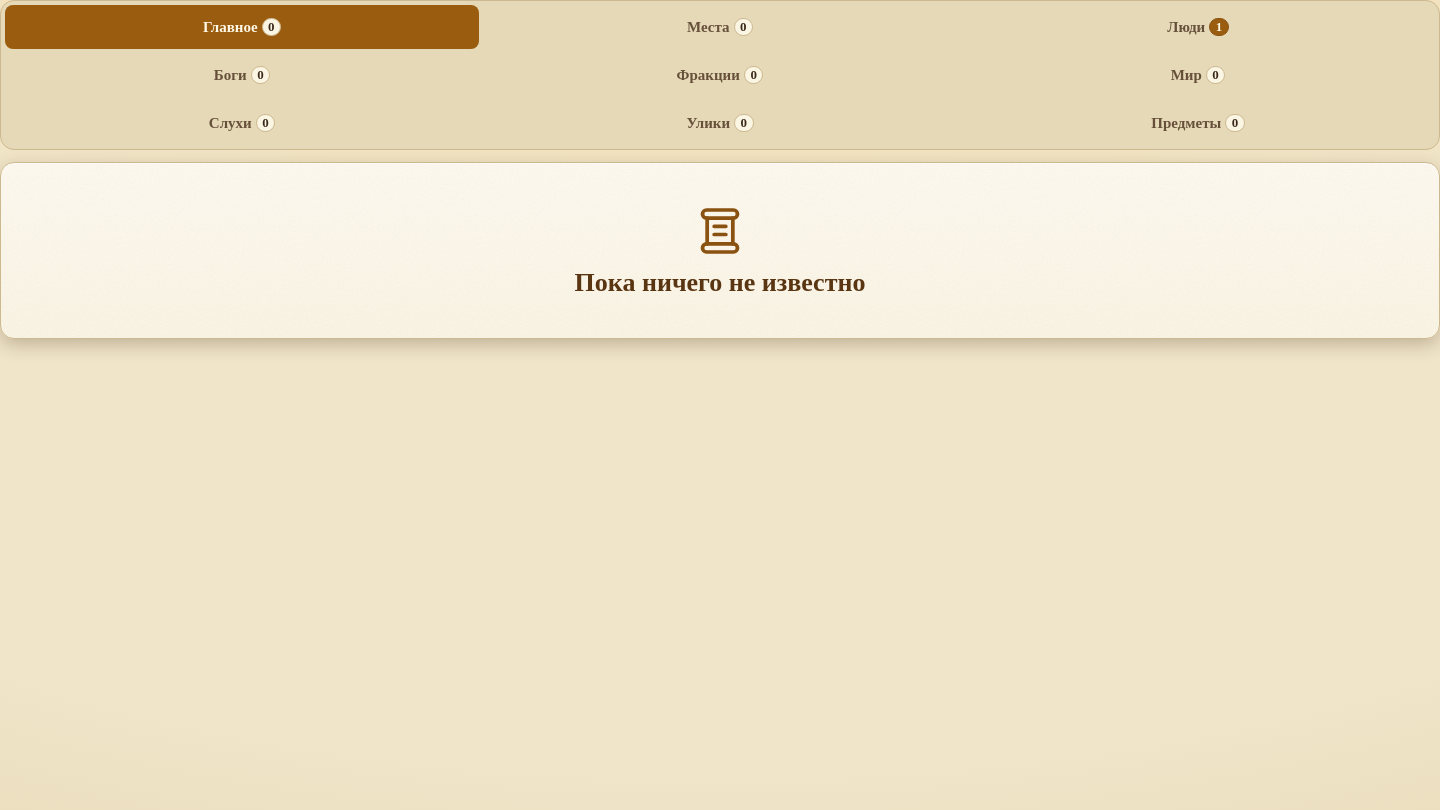
карточка записи › название, абзацы текста и раунд, когда узнали
The image size is (1440, 810).
Click the tab "Люди 1" at (1198, 27), box [961,5,1435,49]
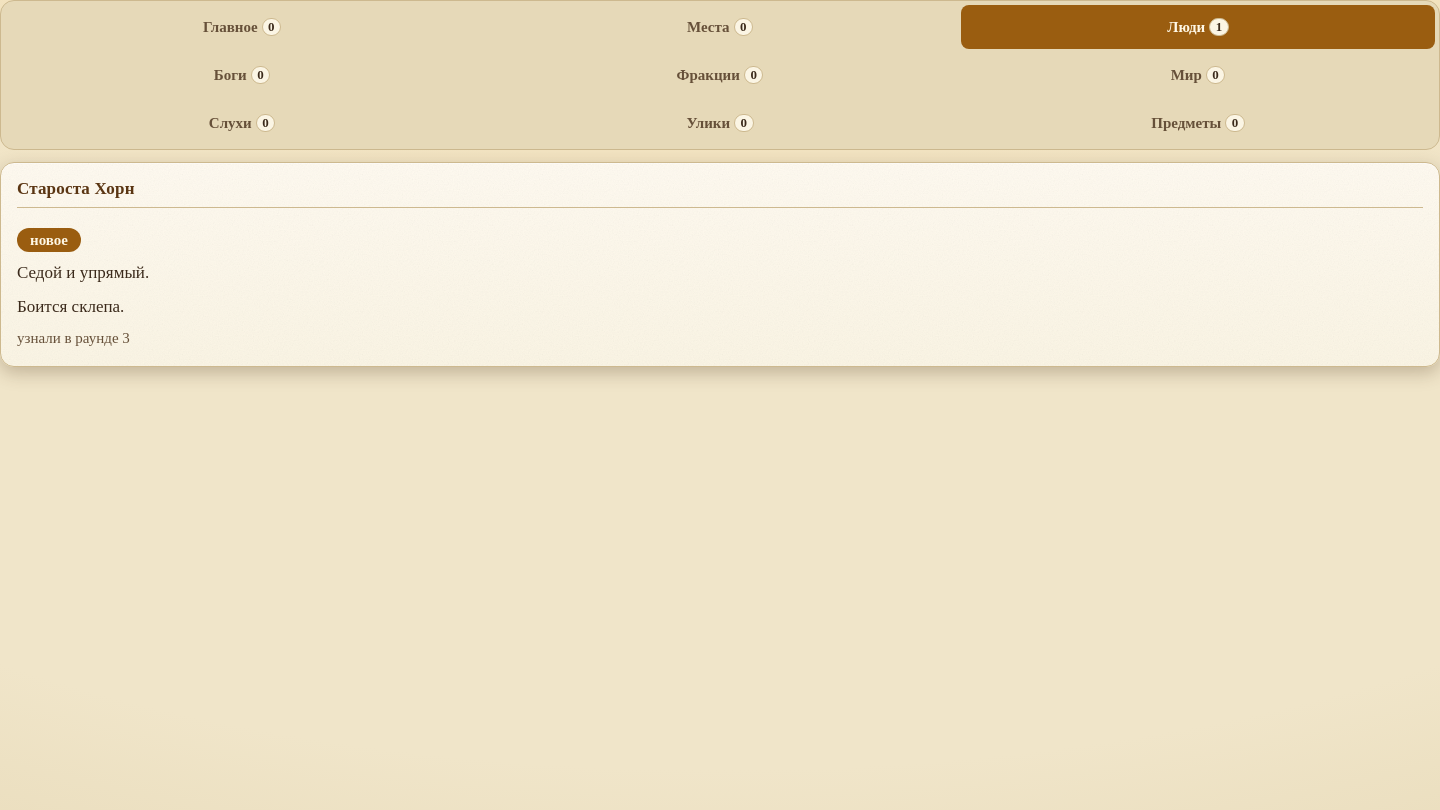
Expected: the text "Седой и упрямый." is shown, [17,263,149,282]
Expected: the text "Боится склепа." is shown, [17,297,124,316]
Expected: the text "узнали в раунде 3" is shown, [17,330,130,346]
